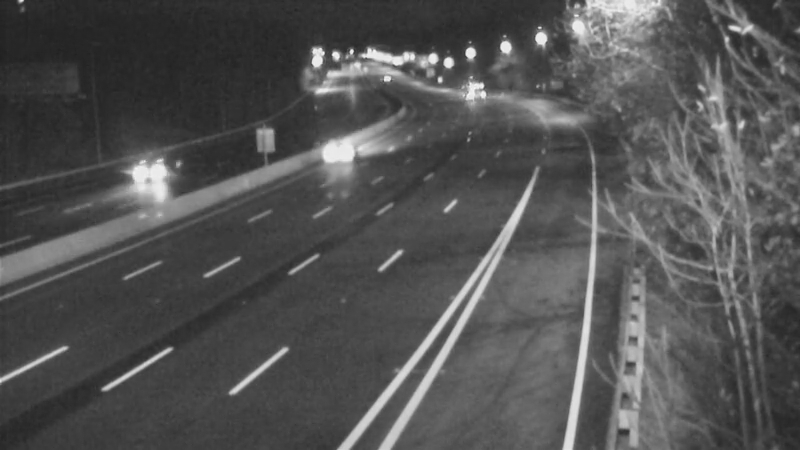vehicle: (297, 118, 377, 198), (118, 134, 198, 214), (361, 50, 411, 100), (440, 63, 490, 113)
